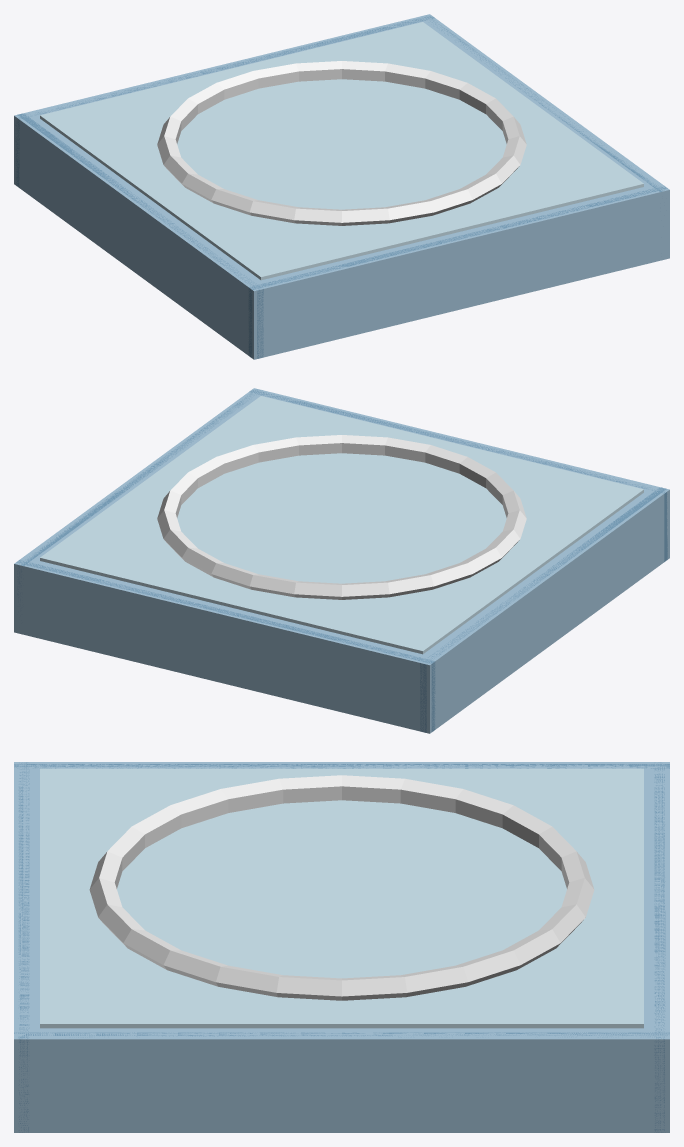
The model's file is bloque_emparejado.glb.
3 renders of one model, top to bottom at view 1: azimuth 30°, elevation 25°; view 2: azimuth 150°, elevation 25°; view 3: azimuth 270°, elevation 25°, orthographic. The views are drawn at different scales.
Parts seen in each view (by area): view 1: bloque_emparejado; view 2: bloque_emparejado; view 3: bloque_emparejado.
Boxes of the visible parts, bbox=[...] form: bloque_emparejado: bbox=[14, 14, 669, 359]; bloque_emparejado: bbox=[14, 388, 669, 733]; bloque_emparejado: bbox=[14, 762, 669, 1132].
Bounding box in the file's own units: 1.65 × 0.3233 × 1.65.
